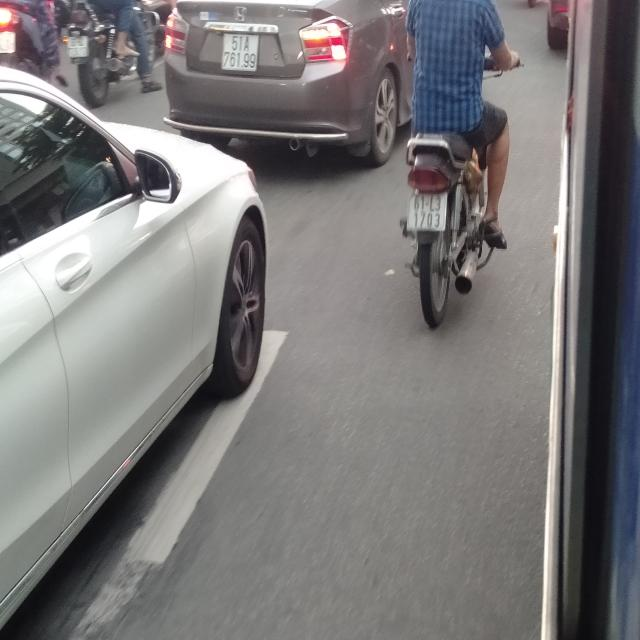bien_trang: (408, 190, 450, 235), (220, 28, 258, 73)
